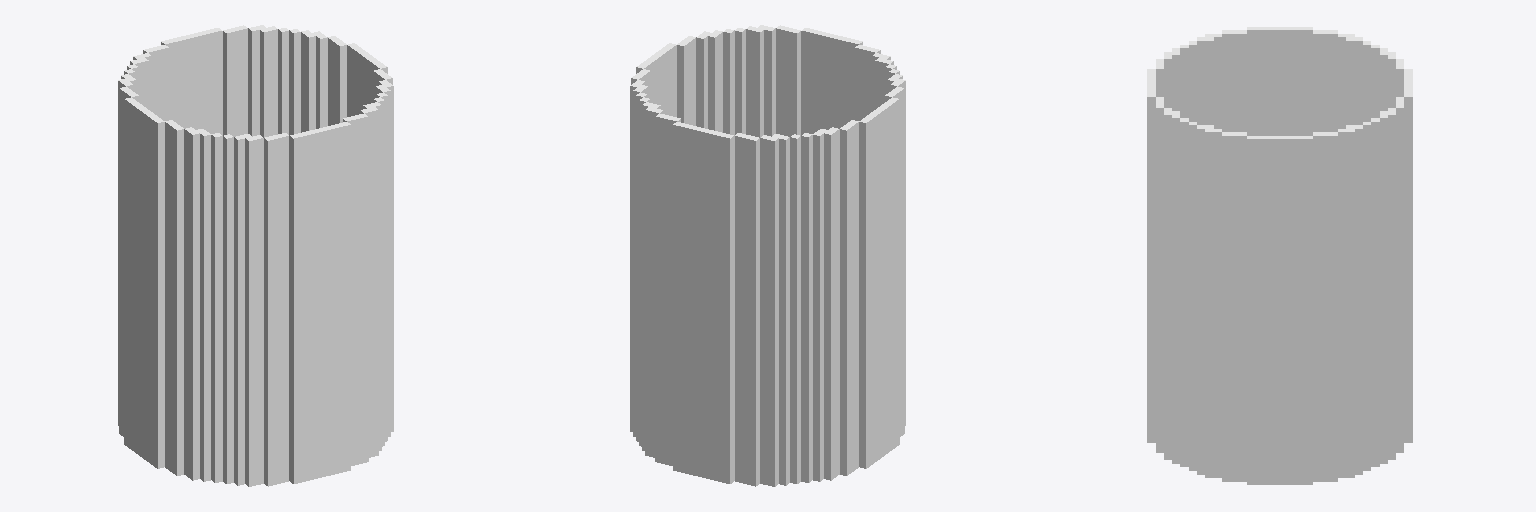
Rendered from Cup2.obj.
3 renders of one model, left to right at view 1: azimuth 30°, elevation 25°; view 2: azimuth 150°, elevation 25°; view 3: azimuth 270°, elevation 25°, orthographic.
Visible parts, largest first — view 1: object 1; view 2: object 1; view 3: object 1.
Boxes of the visible parts, <box> form: object 1: <box>118,25,393,486</box>; object 1: <box>630,25,905,486</box>; object 1: <box>1147,27,1412,484</box>.
Size of the model in its own units: 3.2 by 4.6 by 3.2.